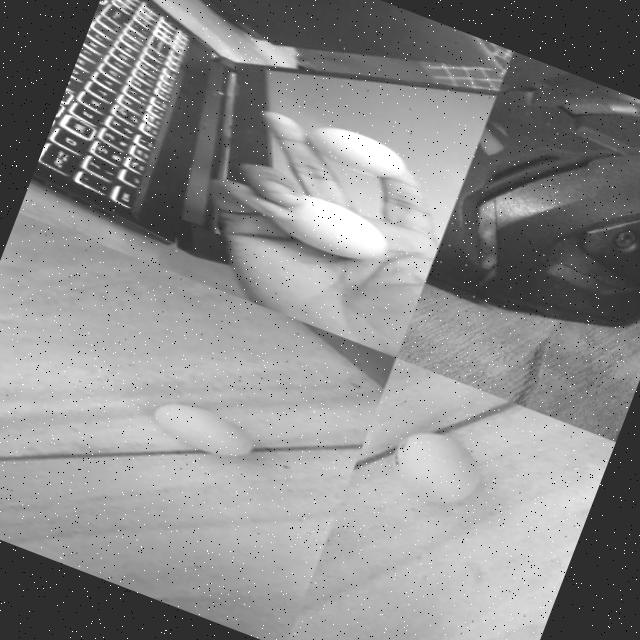ping-pong-ball: (272, 187, 392, 271), (384, 422, 488, 514), (149, 394, 259, 466), (306, 119, 412, 187)
